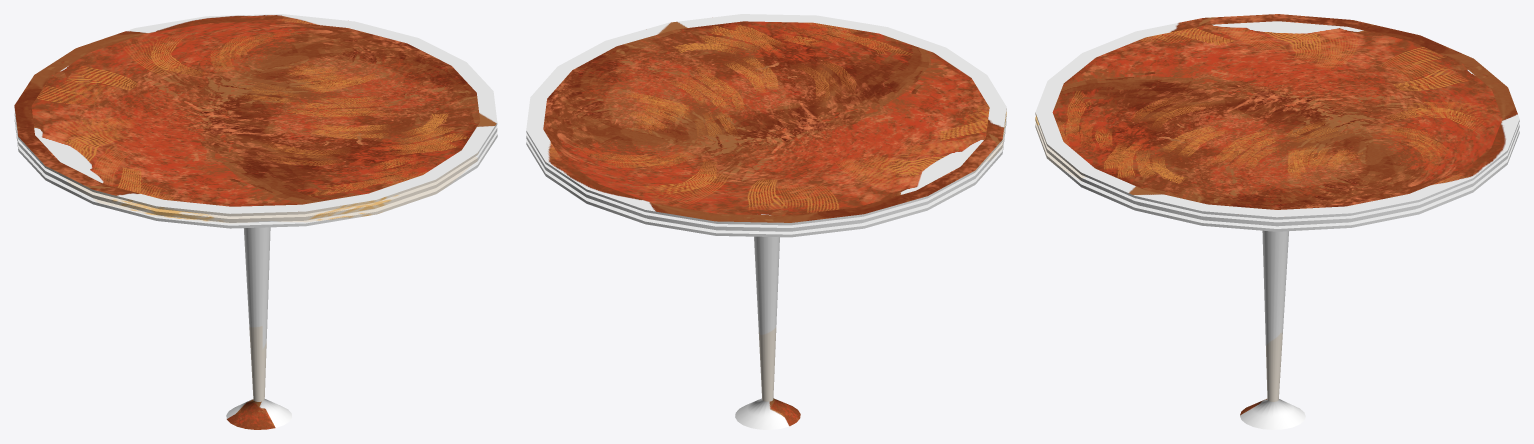
The model's file is DinerTableUVed.obj.
3 views of the same model, side by side, from view 1: azimuth 30°, elevation 25°; view 2: azimuth 150°, elevation 25°; view 3: azimuth 270°, elevation 25° (orthographic).
Parts seen in each view (by area): view 1: DinerTableNoUvNoTexture; view 2: DinerTableNoUvNoTexture; view 3: DinerTableNoUvNoTexture.
Part boxes in pixels (x1=…): DinerTableNoUvNoTexture: x1=14, y1=14, x2=497, y2=429; DinerTableNoUvNoTexture: x1=526, y1=14, x2=1006, y2=429; DinerTableNoUvNoTexture: x1=1035, y1=14, x2=1519, y2=429.
Bounding box in the file's own units: 1.73 × 1.19 × 1.73.
